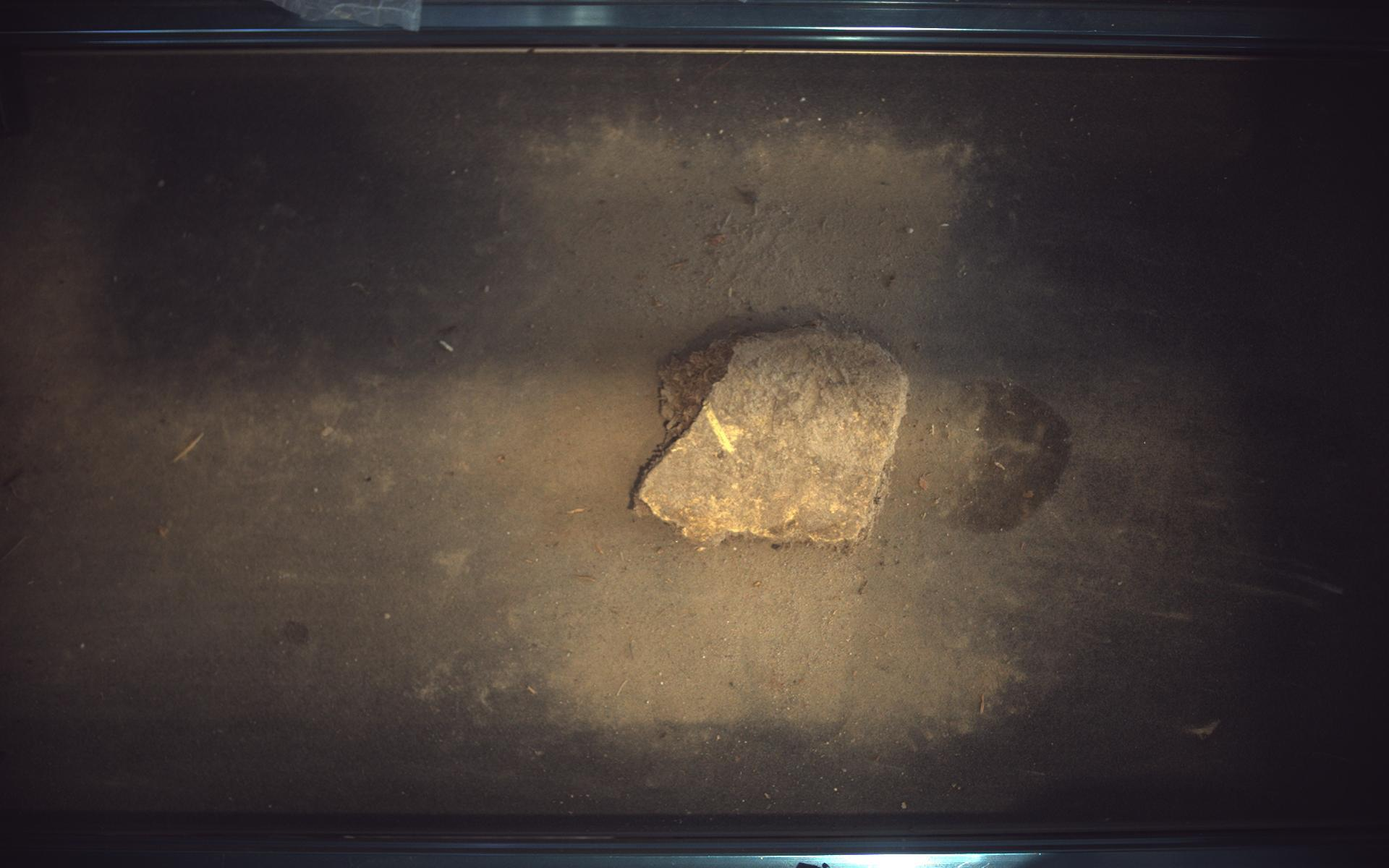wood: (632, 324, 910, 545)
